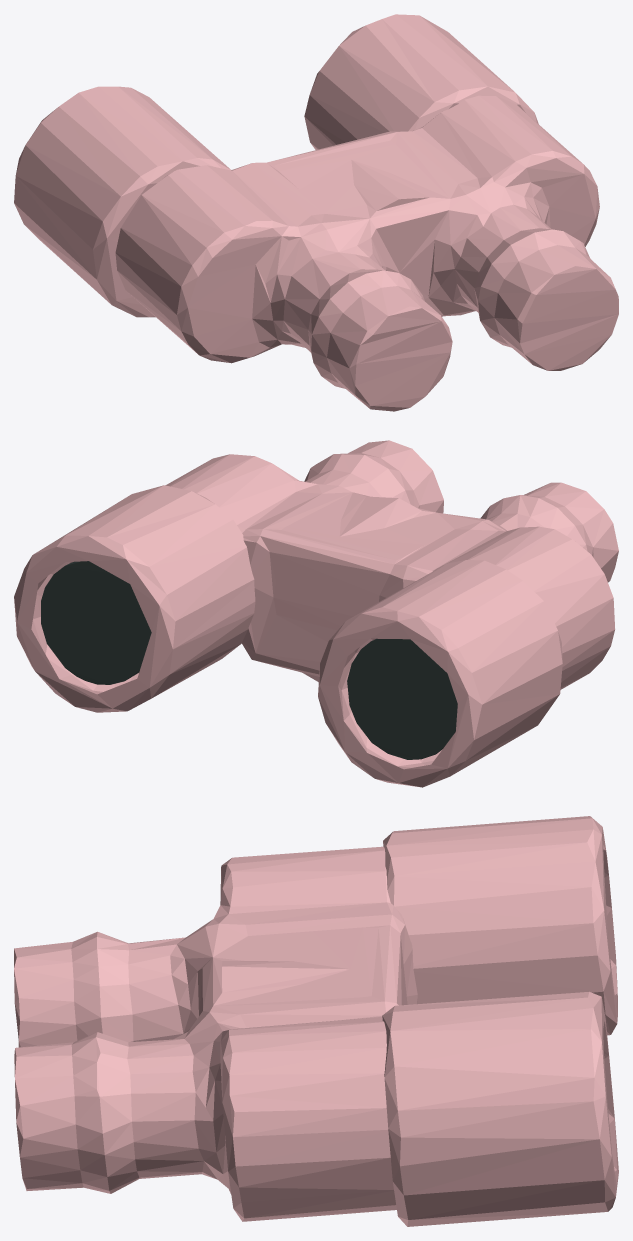
Rendered from fernglas.obj.
3 views of the same model, one above another, from view 1: azimuth 30°, elevation 25°; view 2: azimuth 150°, elevation 25°; view 3: azimuth 270°, elevation 25° (orthographic). The views are drawn at different scales.
Visible parts, largest first — view 1: 292239_23_06_11_15_35_11_0, 292239_23_06_11_15_35_11_2, 292239_23_06_11_15_35_11_1; view 2: 292239_23_06_11_15_35_11_0, 292239_23_06_11_15_35_11_2, 292239_23_06_11_15_35_11_1, 292239_23_06_11_15_35_11_4, 292239_23_06_11_15_35_11_3; view 3: 292239_23_06_11_15_35_11_0, 292239_23_06_11_15_35_11_1, 292239_23_06_11_15_35_11_2.
Boxes of the visible parts, <box> form: 292239_23_06_11_15_35_11_0: <box>115,95,618,411</box>; 292239_23_06_11_15_35_11_2: <box>14,86,230,317</box>; 292239_23_06_11_15_35_11_1: <box>304,14,538,149</box>; 292239_23_06_11_15_35_11_0: <box>165,440,618,689</box>; 292239_23_06_11_15_35_11_2: <box>318,560,562,787</box>; 292239_23_06_11_15_35_11_1: <box>14,485,255,712</box>; 292239_23_06_11_15_35_11_4: <box>347,638,457,759</box>; 292239_23_06_11_15_35_11_3: <box>41,561,151,684</box>; 292239_23_06_11_15_35_11_0: <box>14,846,417,1221</box>; 292239_23_06_11_15_35_11_1: <box>382,991,618,1226</box>; 292239_23_06_11_15_35_11_2: <box>383,816,617,1035</box>.
Size of the model in its own units: 11.24 by 4.2 by 10.69.
Materials: 5 (5 with a texture image).
